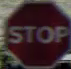Stop: (3, 1, 67, 64)
